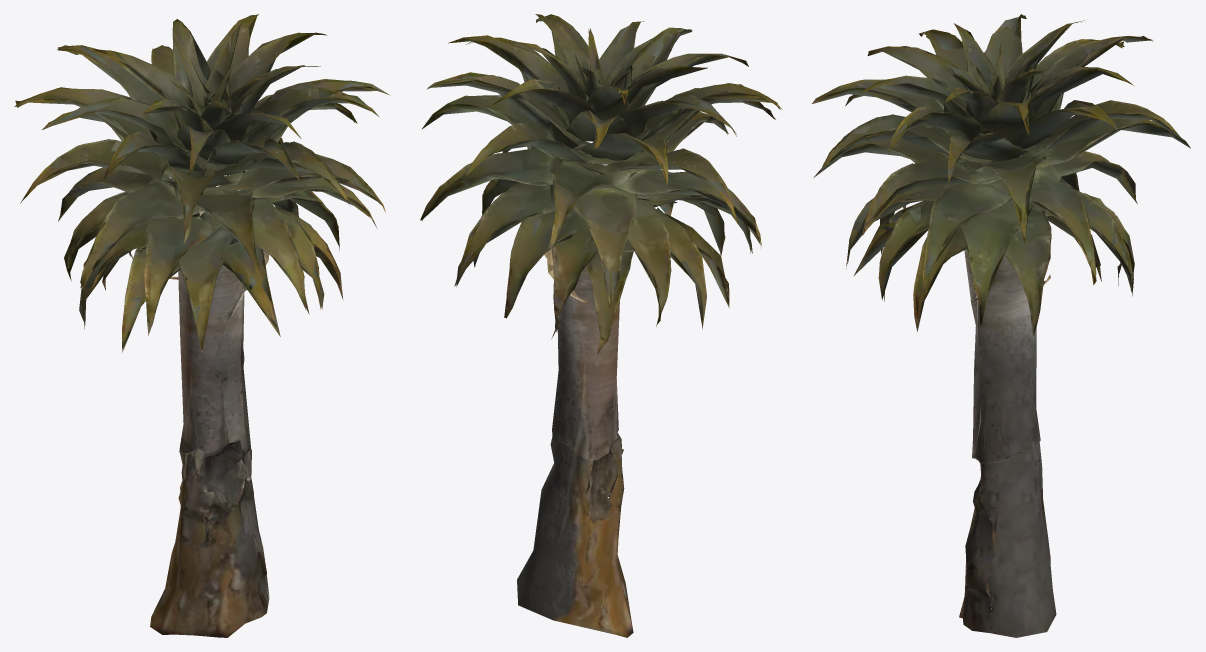
The model's file is quiver_tree_02.glb.
3 views of the same model, side by side, from view 1: azimuth 30°, elevation 25°; view 2: azimuth 150°, elevation 25°; view 3: azimuth 270°, elevation 25° (orthographic).
Parts seen in each view (by area): view 1: quiver_tree_02; view 2: quiver_tree_02; view 3: quiver_tree_02.
Part boxes in pixels (bbox=[...]): quiver_tree_02: bbox=[14, 14, 390, 637]; quiver_tree_02: bbox=[420, 14, 782, 637]; quiver_tree_02: bbox=[812, 14, 1190, 637].
Size of the model in its own units: 0.8739 by 1.47 by 0.8735.
1 material, 1 textured.
